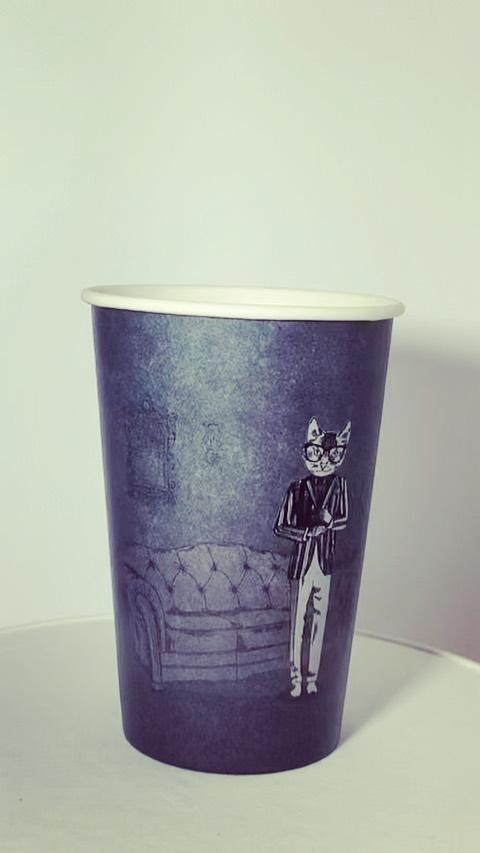cup-disposable: (83, 265, 408, 784)
